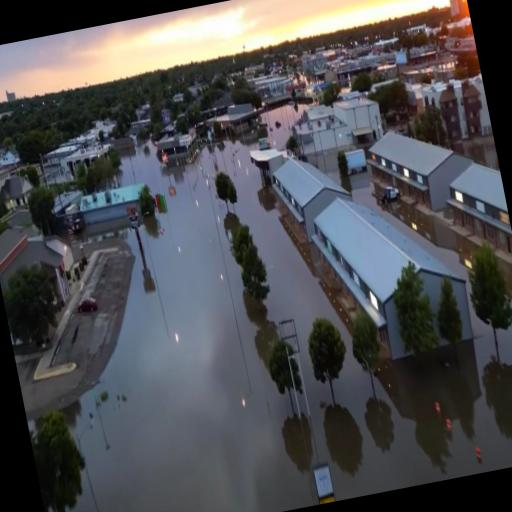flood: (66, 137, 512, 512), (262, 102, 297, 148)
house: (306, 175, 478, 374), (361, 112, 480, 222), (0, 213, 85, 353), (267, 144, 358, 248), (440, 158, 512, 277), (41, 132, 119, 192), (76, 179, 153, 231), (330, 91, 386, 147), (154, 126, 200, 166), (252, 72, 296, 109), (0, 164, 14, 197)
